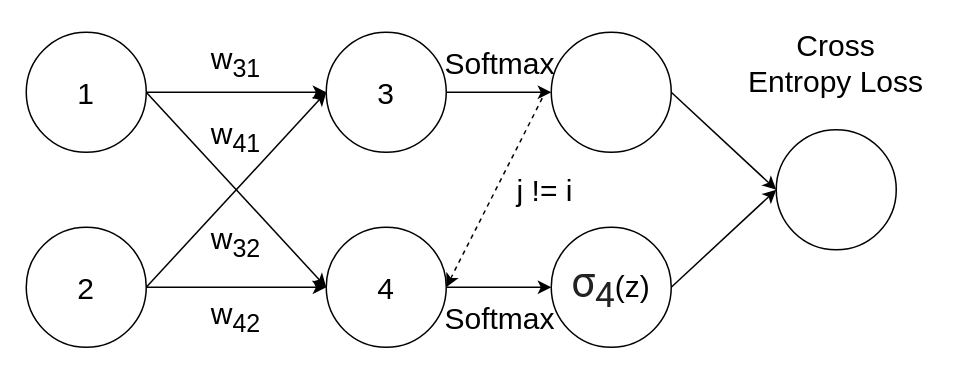
Image size: 953x374. Some labels were removed from this diagram. Each missing label, with the box of its shape:
Loss: (775, 128, 896, 250)
σ 3 (z): (550, 31, 671, 152)
